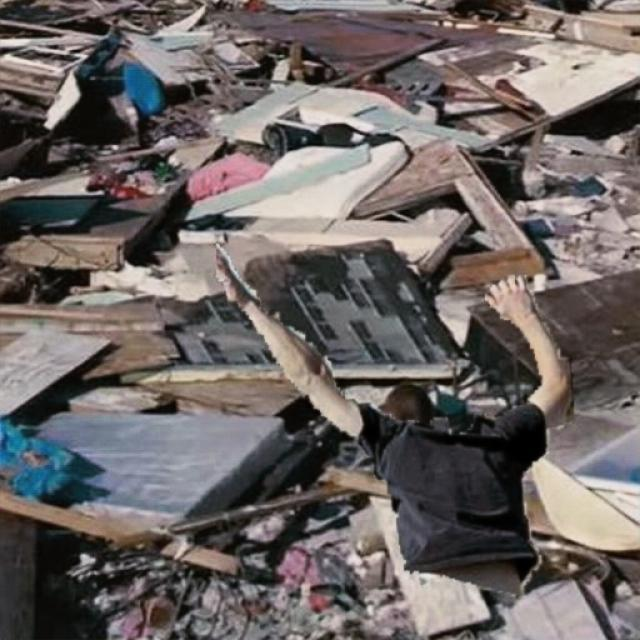Person in Rubble: (217, 244, 572, 596)
